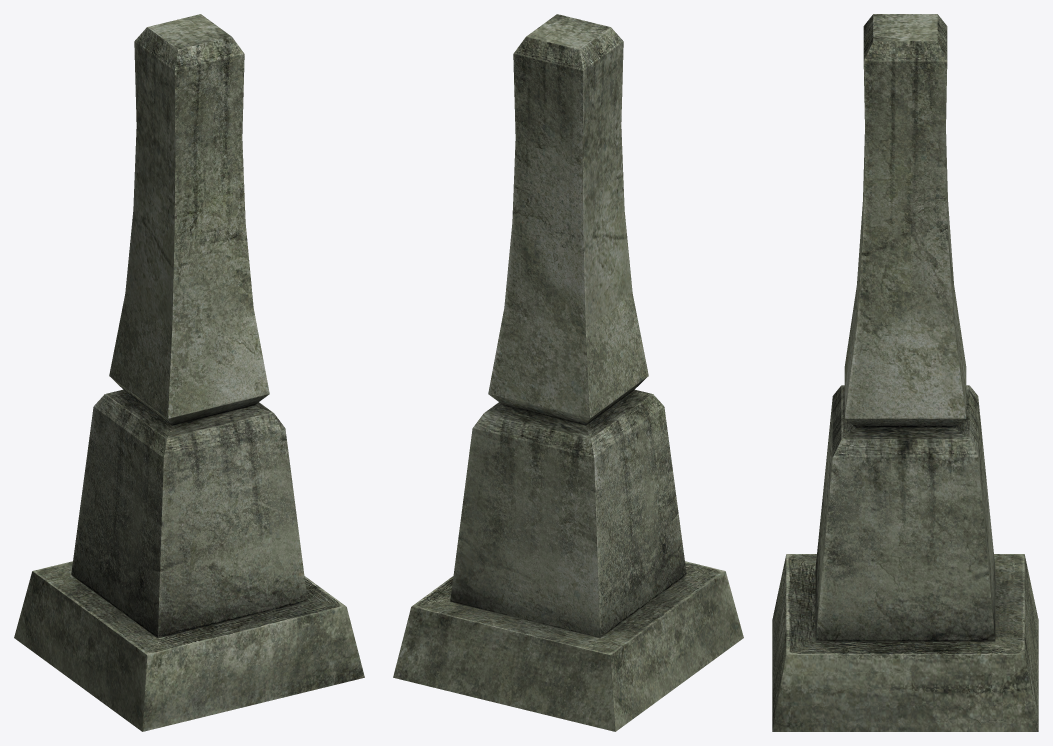
The model's file is Gravestone10.dae.
3 views of the same model, side by side, from view 1: azimuth 30°, elevation 25°; view 2: azimuth 150°, elevation 25°; view 3: azimuth 270°, elevation 25° (orthographic). The views are drawn at different scales.
Parts seen in each view (by area): view 1: Gravestone10; view 2: Gravestone10; view 3: Gravestone10.
Boxes of the visible parts, left/top/right/bottom form: Gravestone10: left=14, top=14, right=364, bottom=731; Gravestone10: left=393, top=14, right=743, bottom=731; Gravestone10: left=772, top=14, right=1038, bottom=731.
Bounding box in the file's own units: 0.532 × 0.532 × 1.43.
